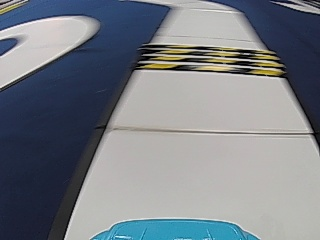bump: (149, 44, 263, 72)
